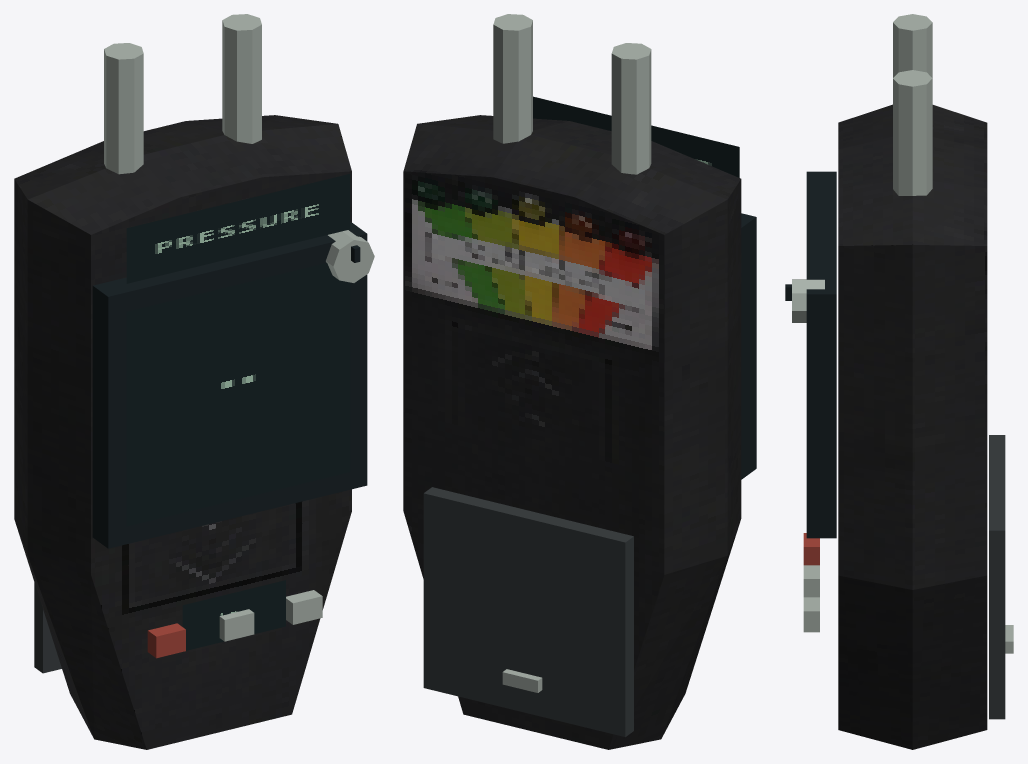
Rendered from blender_barometric_probe_2.glb.
3 views of the same model, side by side, from view 1: azimuth 30°, elevation 25°; view 2: azimuth 150°, elevation 25°; view 3: azimuth 270°, elevation 25° (orthographic). The views are drawn at different scales.
Visible parts, largest first — view 1: blender_barometric_probe_2; view 2: blender_barometric_probe_2; view 3: blender_barometric_probe_2.
Boxes of the visible parts, x1,y1,x2,y2 form: blender_barometric_probe_2: (14,14,374,749); blender_barometric_probe_2: (403,14,756,749); blender_barometric_probe_2: (785,14,1013,749).
Size of the model in its own units: 0.105 by 0.22 by 0.069.
Materials: 1 (1 with a texture image).
